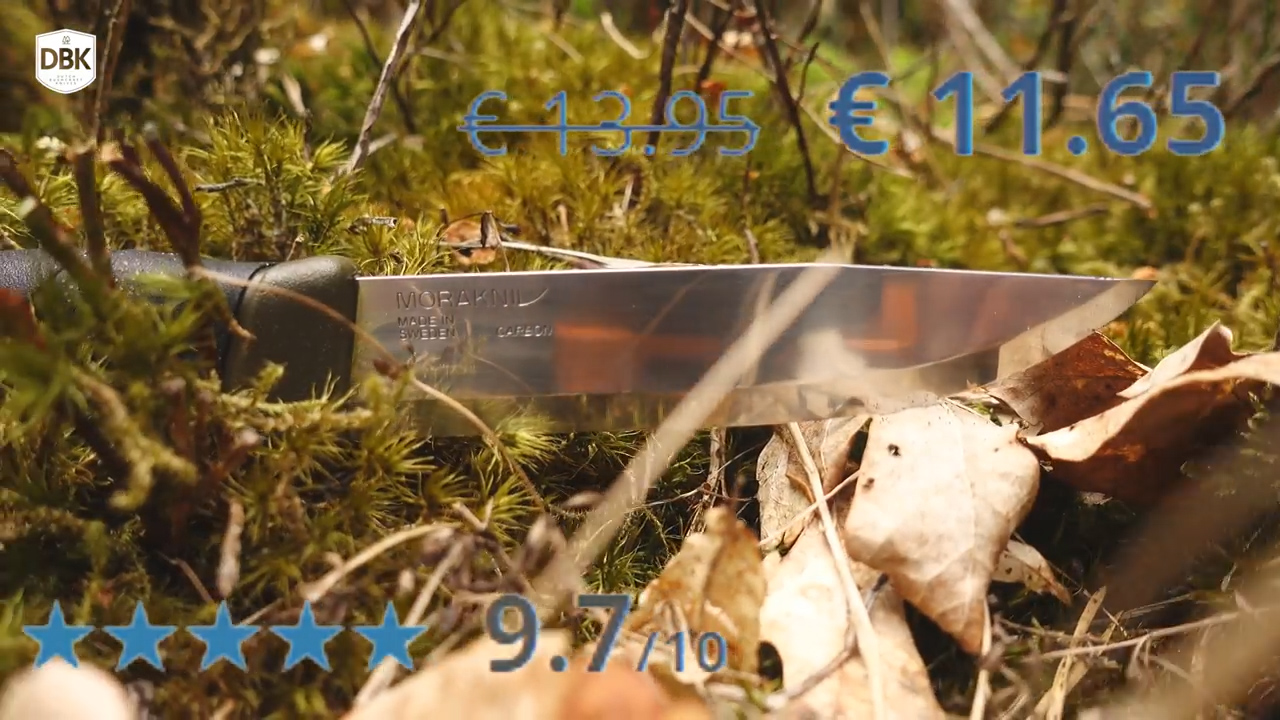knife: (226, 234, 1177, 416)
